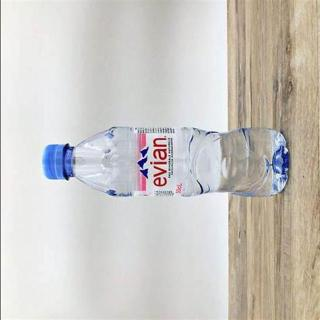Anorganik: (38, 118, 291, 202)
